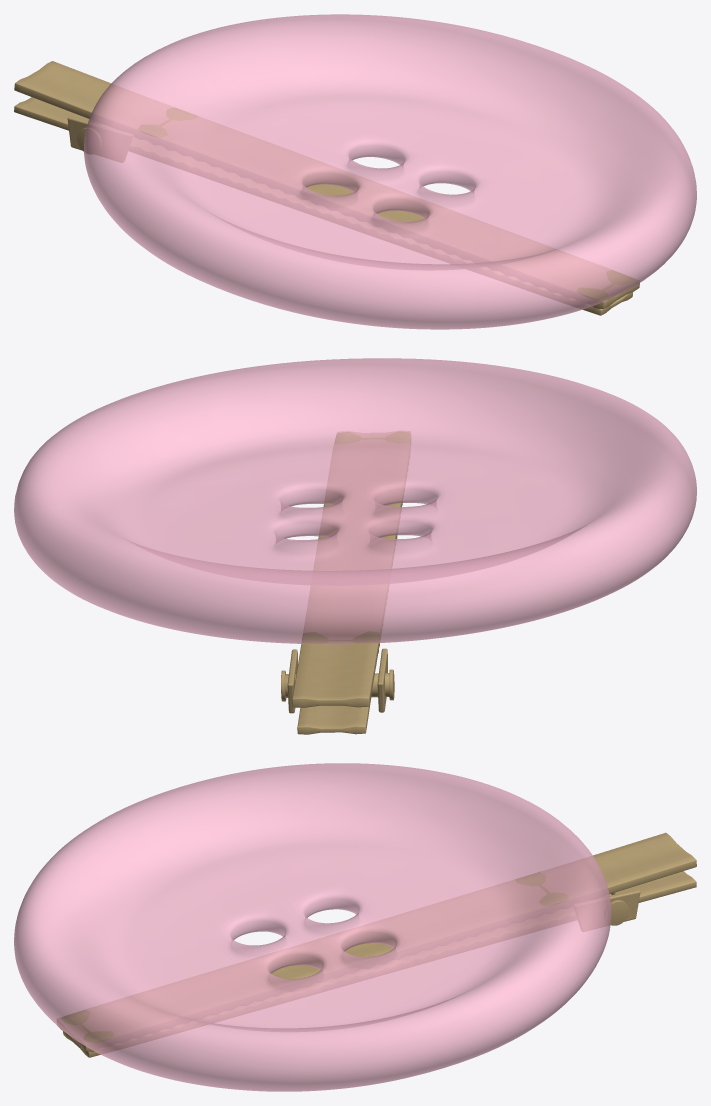
File: HairClip_TransparentAcrylic.glb
3 views of the same model, one above another, from view 1: azimuth 30°, elevation 25°; view 2: azimuth 150°, elevation 25°; view 3: azimuth 270°, elevation 25° (orthographic). The views are drawn at different scales.
Visible parts, largest first — view 1: HairClip_TransparentAcrylic__Pink_Four_Hole_Button, HairClip_TransparentAcrylic__Fixed_Serrated_Jaw, HairClip_TransparentAcrylic__Moving_Jaw_Static_Pose, HairClip_TransparentAcrylic__Pivot_Cheek_L, HairClip_TransparentAcrylic__Pivot_Head_L; view 2: HairClip_TransparentAcrylic__Pink_Four_Hole_Button, HairClip_TransparentAcrylic__Fixed_Serrated_Jaw, HairClip_TransparentAcrylic__Moving_Jaw_Static_Pose; view 3: HairClip_TransparentAcrylic__Pink_Four_Hole_Button, HairClip_TransparentAcrylic__Fixed_Serrated_Jaw, HairClip_TransparentAcrylic__Moving_Jaw_Static_Pose, HairClip_TransparentAcrylic__Pivot_Cheek_R.
Part boxes in pixels (left/top/right/bottom): HairClip_TransparentAcrylic__Pink_Four_Hole_Button: left=84, top=14, right=696, bottom=329; HairClip_TransparentAcrylic__Fixed_Serrated_Jaw: left=14, top=61, right=639, bottom=308; HairClip_TransparentAcrylic__Moving_Jaw_Static_Pose: left=14, top=97, right=632, bottom=315; HairClip_TransparentAcrylic__Pivot_Cheek_L: left=67, top=116, right=132, bottom=162; HairClip_TransparentAcrylic__Pivot_Head_L: left=77, top=127, right=101, bottom=153; HairClip_TransparentAcrylic__Pink_Four_Hole_Button: left=14, top=358, right=696, bottom=644; HairClip_TransparentAcrylic__Fixed_Serrated_Jaw: left=292, top=431, right=410, bottom=707; HairClip_TransparentAcrylic__Moving_Jaw_Static_Pose: left=297, top=694, right=371, bottom=734; HairClip_TransparentAcrylic__Pink_Four_Hole_Button: left=14, top=763, right=611, bottom=1091; HairClip_TransparentAcrylic__Fixed_Serrated_Jaw: left=57, top=832, right=696, bottom=1051; HairClip_TransparentAcrylic__Moving_Jaw_Static_Pose: left=63, top=871, right=696, bottom=1057; HairClip_TransparentAcrylic__Pivot_Cheek_R: left=573, top=890, right=640, bottom=931.
Size of the model in its own units: 39.81 by 9.01 by 45.53.
2 materials, 2 textured.
